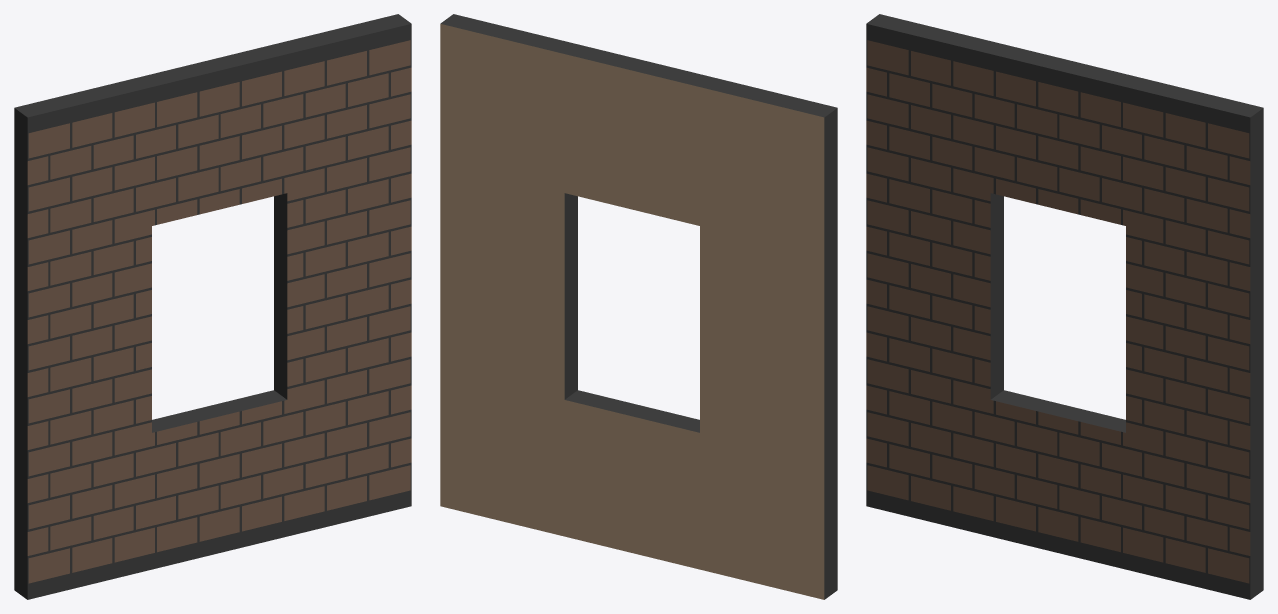
File: Wall3_C10_03.fbx
3 views of the same model, side by side, from view 1: azimuth 30°, elevation 25°; view 2: azimuth 150°, elevation 25°; view 3: azimuth 330°, elevation 25° (orthographic).
Parts seen in each view (by area): view 1: Wall3_C10_03; view 2: Wall3_C10_03; view 3: Wall3_C10_03.
Part boxes in pixels (x1,y1,x2,y2): Wall3_C10_03: (14, 14, 411, 599); Wall3_C10_03: (440, 14, 837, 599); Wall3_C10_03: (866, 14, 1263, 599).
Size of the model in its own units: 250 by 300 by 15.
